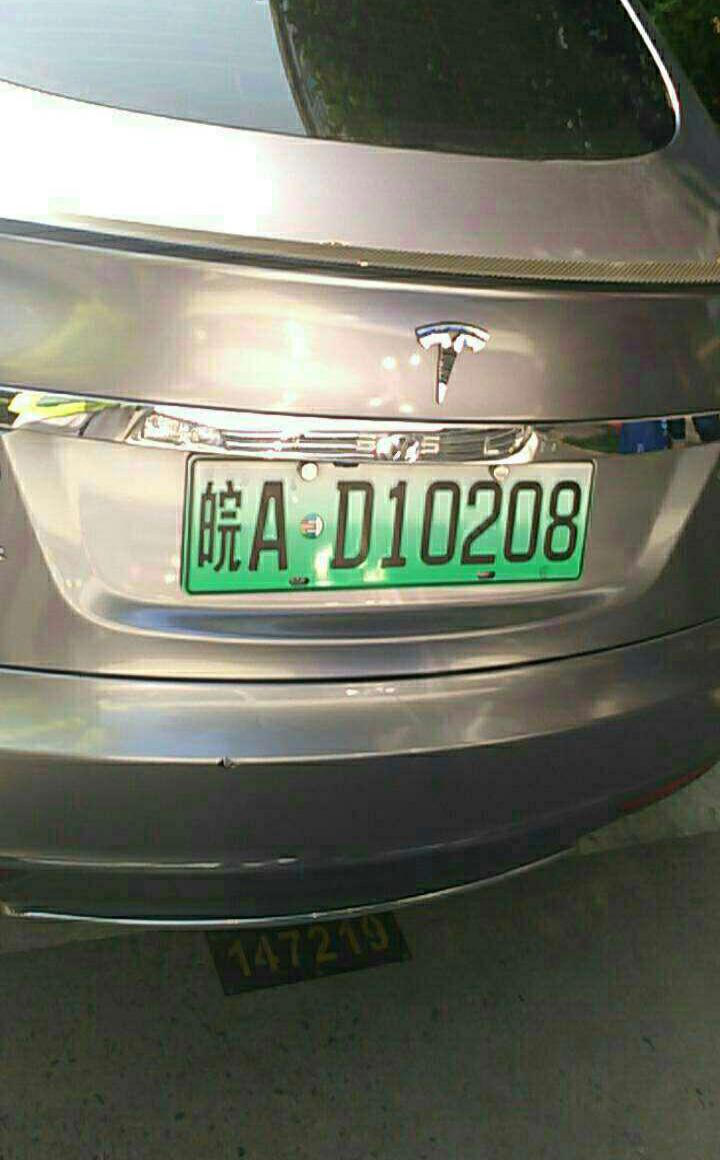car_green: (179, 454, 597, 586)
